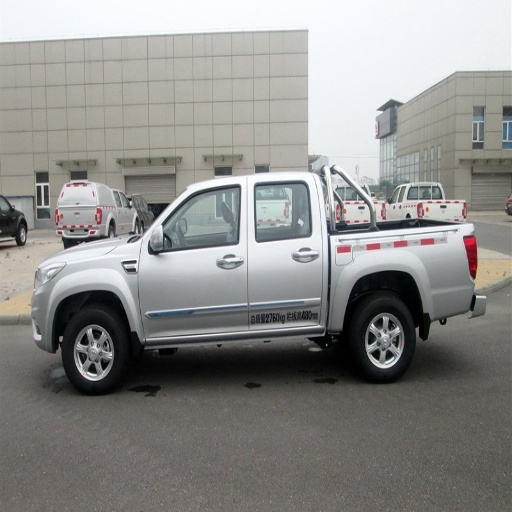back_left_door: (247, 177, 323, 326)
front_left_door: (139, 182, 249, 336)
trunk: (326, 227, 468, 328)
